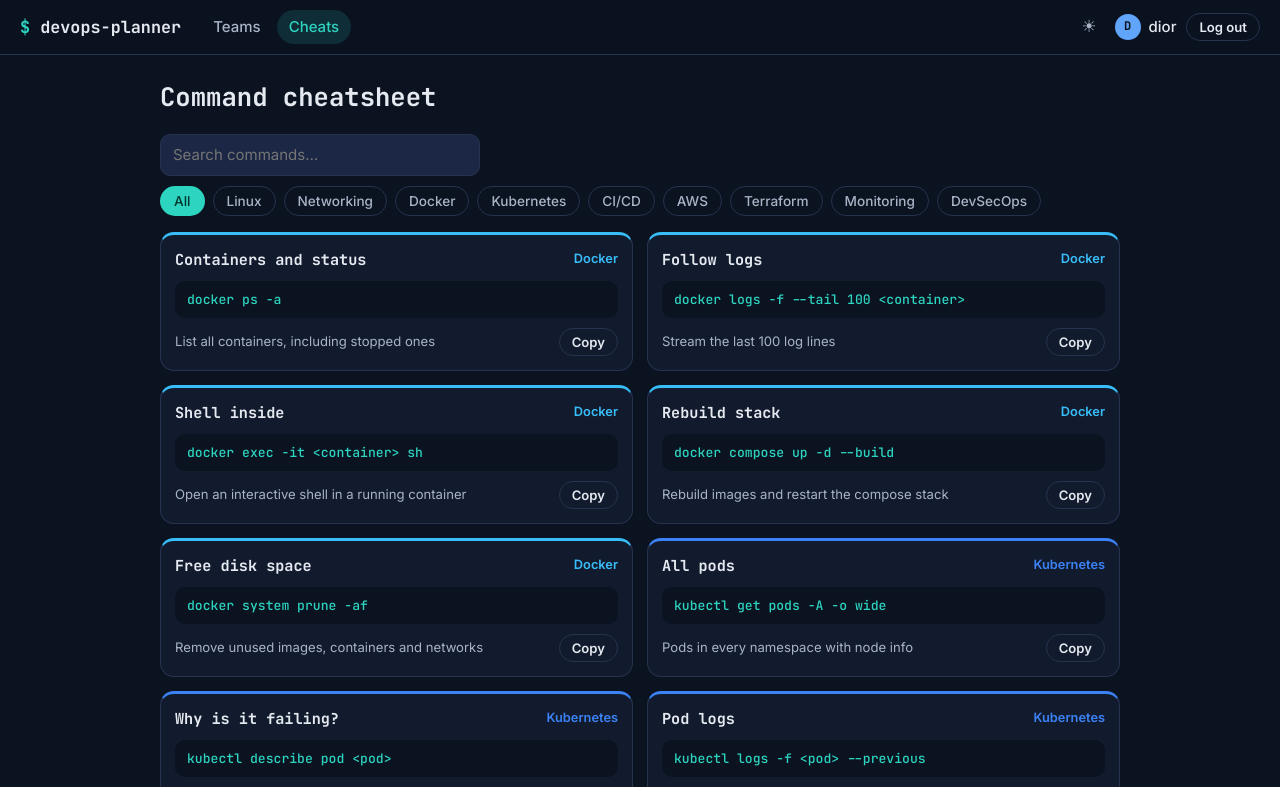
Test: web app › filters the cheatsheet
The width and height of the screenshot is (1280, 787).
Type "terraform plan" into the field labelled "Search commands" at (320, 155), box x1=160 y1=134 x2=480 y2=176
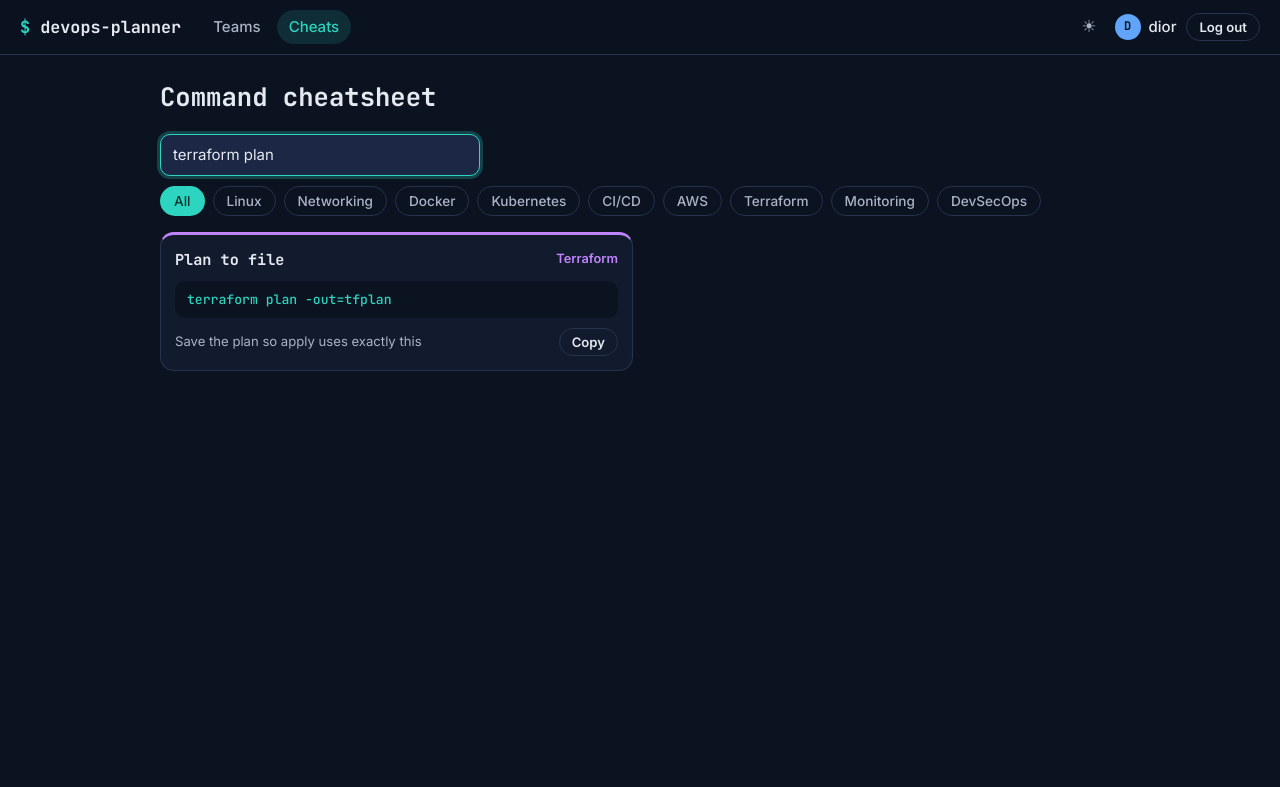
Expected: the text "terraform plan -out=tfplan" is shown, x1=175 y1=281 x2=618 y2=318
Expected: the text "docker ps -a" is gone
